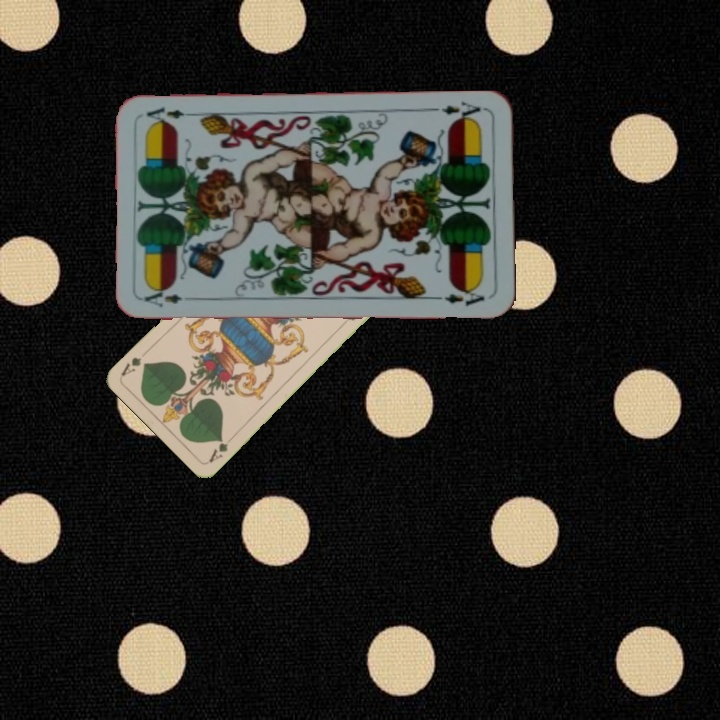EA: (438, 97, 488, 124), (140, 286, 184, 310)
GA: (204, 432, 235, 465)
